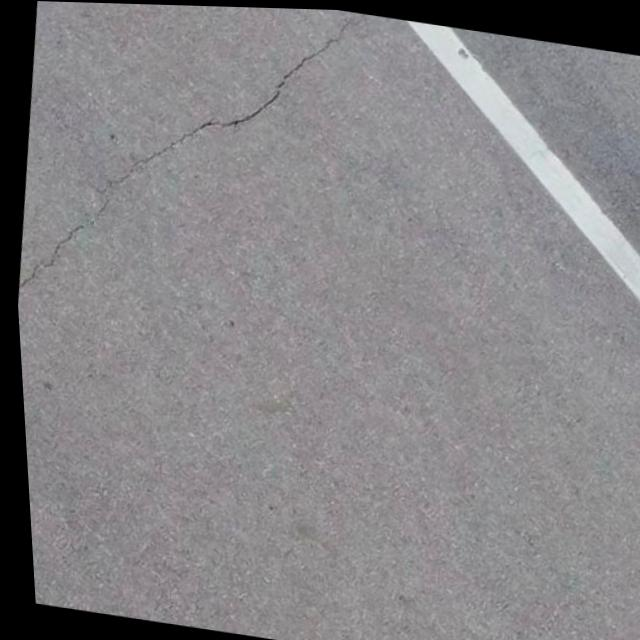Crack: (148, 3, 397, 164), (8, 125, 190, 321)
